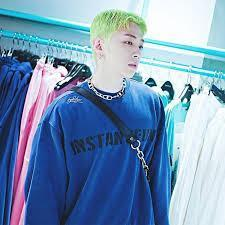sweater: (25, 81, 178, 225)
